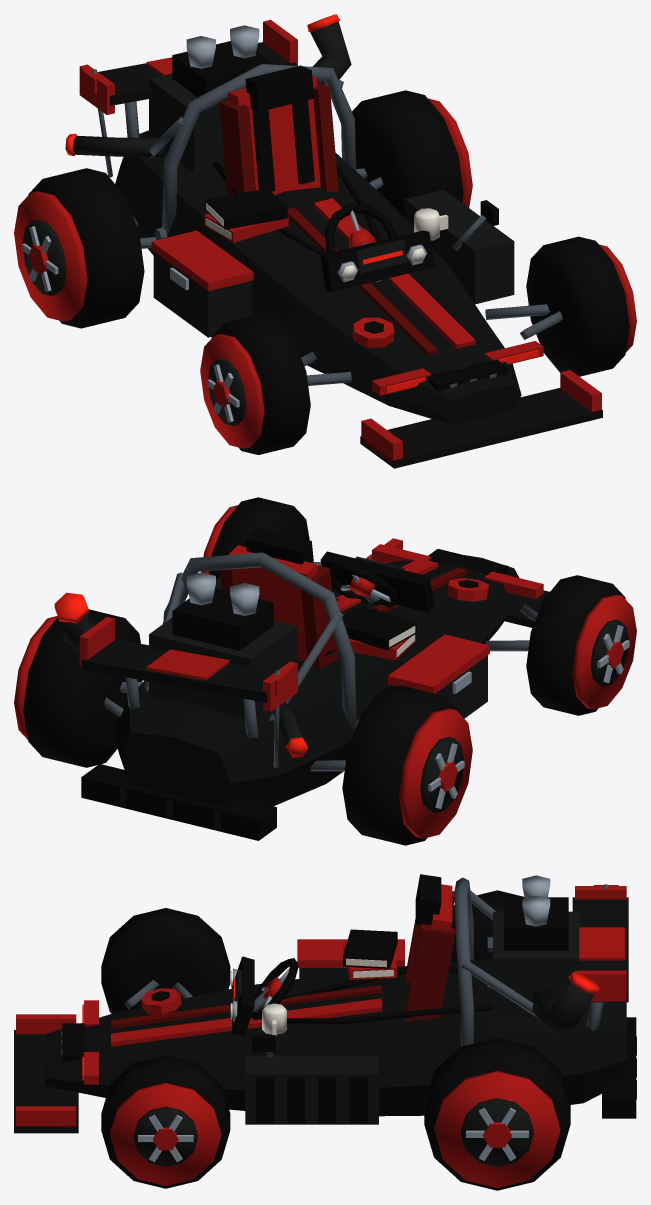
The model's file is YI_gam_cart.fbx.
3 renders of one model, top to bottom at view 1: azimuth 30°, elevation 25°; view 2: azimuth 150°, elevation 25°; view 3: azimuth 270°, elevation 25°, orthographic. The views are drawn at different scales.
Visible parts, largest first — view 1: YI_gam_cart_Body, YI_gam_cart_Wheel_RR, YI_gam_cart_Wheel_FR, YI_gam_cart_Wheel_FL, YI_gam_cart_Wheel_RL, YI_gam_cart_Steering; view 2: YI_gam_cart_Body, YI_gam_cart_Wheel_RR, YI_gam_cart_Wheel_FR, YI_gam_cart_Wheel_RL, YI_gam_cart_Wheel_FL, YI_gam_cart_Steering; view 3: YI_gam_cart_Body, YI_gam_cart_Wheel_RL, YI_gam_cart_Wheel_FL, YI_gam_cart_Wheel_FR, YI_gam_cart_Wheel_RR, YI_gam_cart_Steering.
Part boxes in pixels (x1=…): YI_gam_cart_Body: x1=65, y1=14, x2=602, y2=468; YI_gam_cart_Wheel_RR: x1=14, y1=168, x2=144, y2=328; YI_gam_cart_Wheel_FR: x1=200, y1=314, x2=310, y2=454; YI_gam_cart_Wheel_FL: x1=526, y1=236, x2=636, y2=376; YI_gam_cart_Wheel_RL: x1=352, y1=90, x2=472, y2=217; YI_gam_cart_Steering: x1=325, y1=204, x2=396, y2=253; YI_gam_cart_Body: x1=54, y1=528, x2=549, y2=840; YI_gam_cart_Wheel_RR: x1=342, y1=685, x2=472, y2=845; YI_gam_cart_Wheel_FR: x1=526, y1=575, x2=636, y2=715; YI_gam_cart_Wheel_RL: x1=14, y1=609, x2=142, y2=767; YI_gam_cart_Wheel_FL: x1=201, y1=497, x2=309, y2=579; YI_gam_cart_Steering: x1=328, y1=563, x2=398, y2=607; YI_gam_cart_Body: x1=14, y1=874, x2=636, y2=1133; YI_gam_cart_Wheel_RL: x1=424, y1=1038, x2=570, y2=1190; YI_gam_cart_Wheel_FL: x1=101, y1=1055, x2=230, y2=1188; YI_gam_cart_Wheel_FR: x1=101, y1=908, x2=230, y2=1013; YI_gam_cart_Wheel_RR: x1=450, y1=890, x2=524, y2=961; YI_gam_cart_Steering: x1=251, y1=958, x2=297, y2=1020.
Bounding box in the file's own units: 1.09 × 1.5 × 0.5844.
